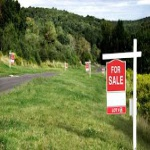Road: (2, 50, 105, 91)
Uncultivated: (2, 48, 105, 150)
